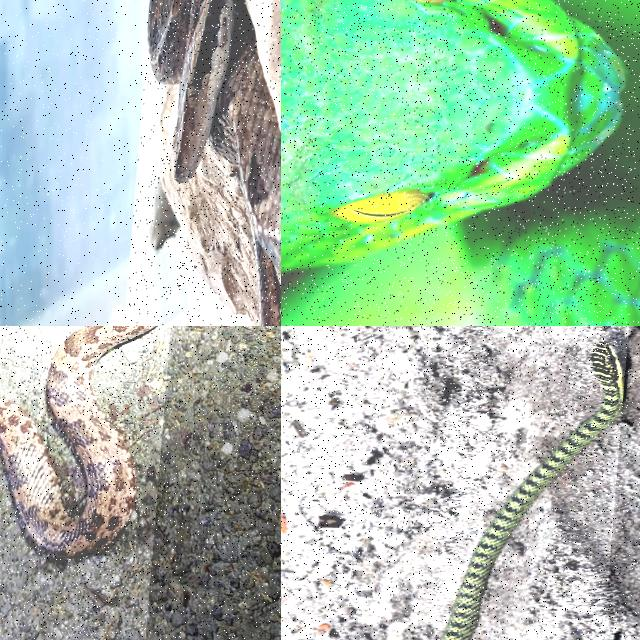Calloselasma rhodostoma: (148, 0, 280, 325)
Chrysopelea ornata: (440, 342, 624, 639)
Ovophis monticola: (0, 326, 155, 557)
Trimeresurus macrops: (281, 0, 639, 325)
